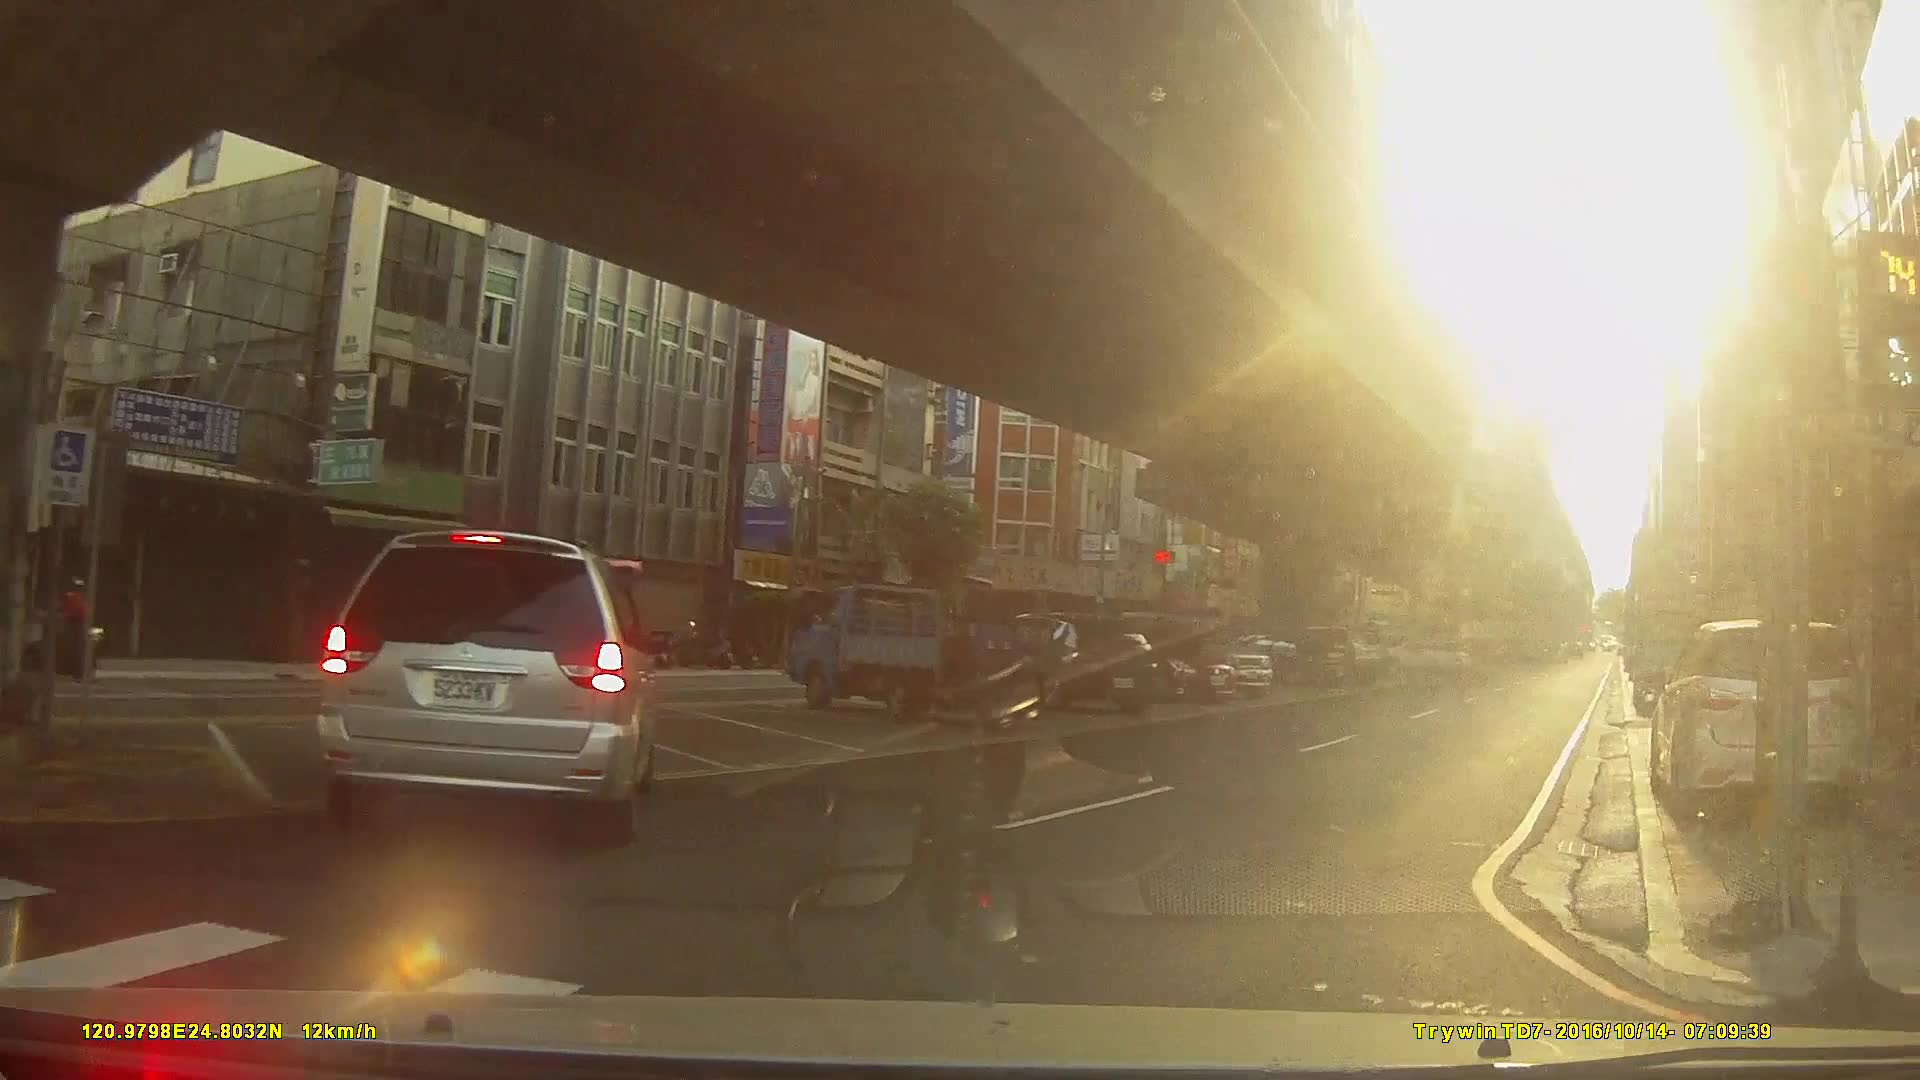rider: (38, 575, 112, 689)
vehicle: (312, 528, 655, 841), (1647, 619, 1876, 828), (783, 584, 1039, 726), (975, 614, 1157, 718), (1071, 622, 1238, 706), (1208, 631, 1328, 686)
